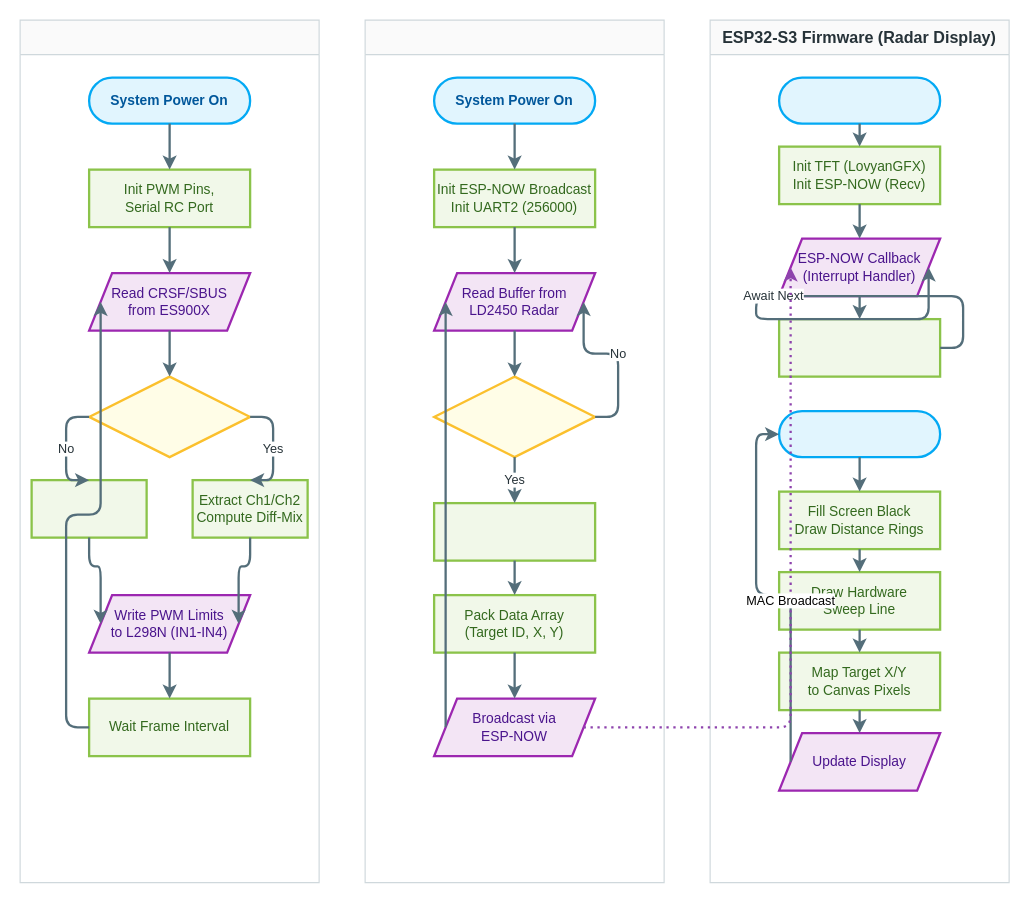
Image size: 1029x903. Some labels were removed from this diagram. Each missing label, with the box of its shape:
Apply Persistence Filter Suppress Ghosts: (432, 501, 596, 561)
Dump Targets Into Memory Array: (777, 317, 941, 377)
ESP32 Firmware (Radar Node): (364, 19, 664, 883)
ESP8266 Firmware (Rover Controller): (19, 19, 319, 883)
Main GUI Loop: (777, 409, 941, 458)
Motor Failsafe (Set PWM = 0): (30, 478, 147, 538)
Power On: (777, 76, 941, 124)
Valid Signal Received?: (87, 375, 251, 458)
Valid Target Header Found?: (432, 375, 596, 458)
